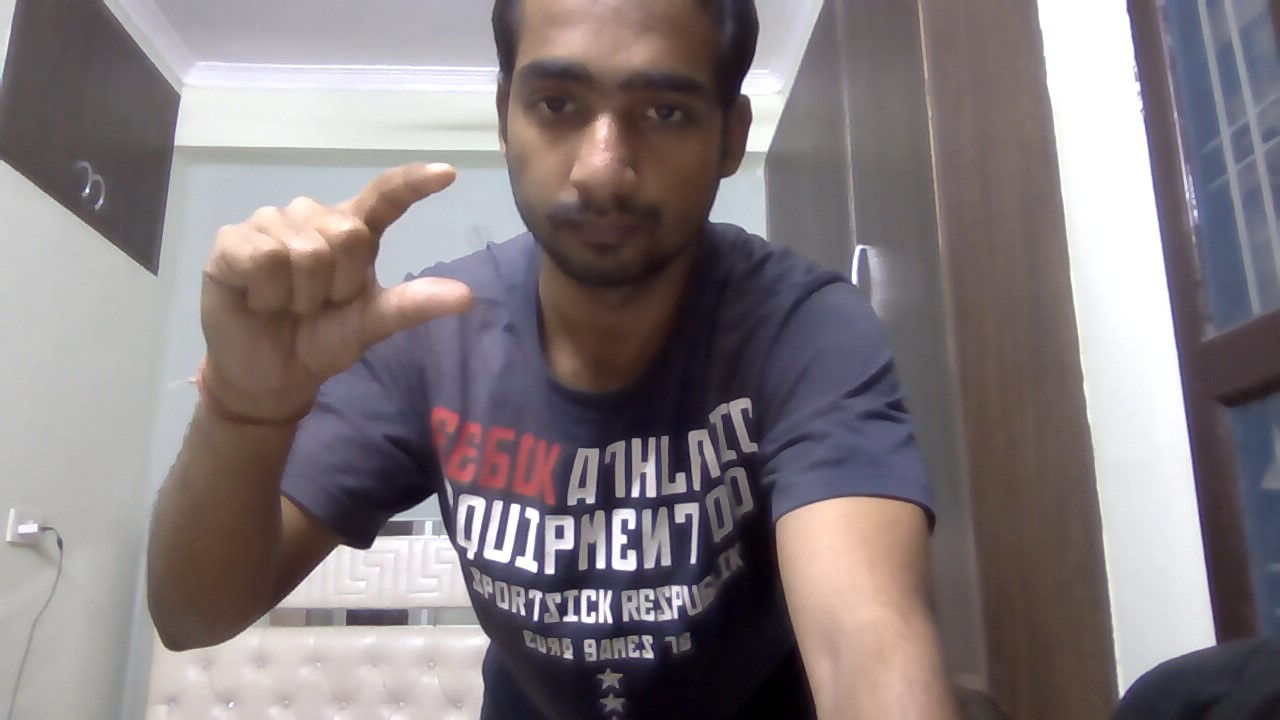Paste: (191, 156, 485, 420)
